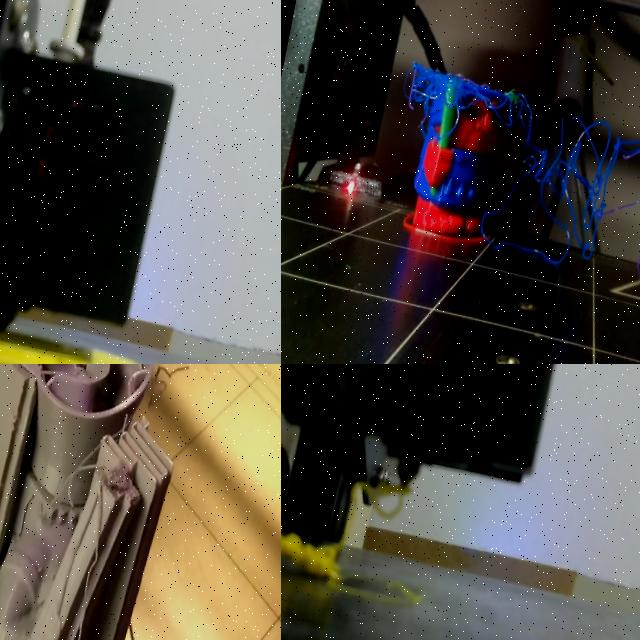spaghetti: (479, 48, 640, 334), (8, 431, 150, 640), (388, 36, 520, 152), (139, 364, 187, 432), (281, 533, 340, 580)
